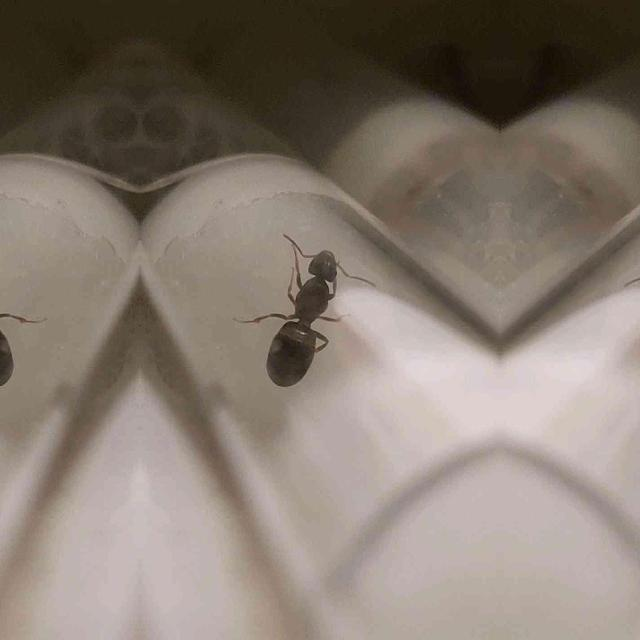Lasius: (248, 228, 354, 398), (0, 226, 28, 397)
